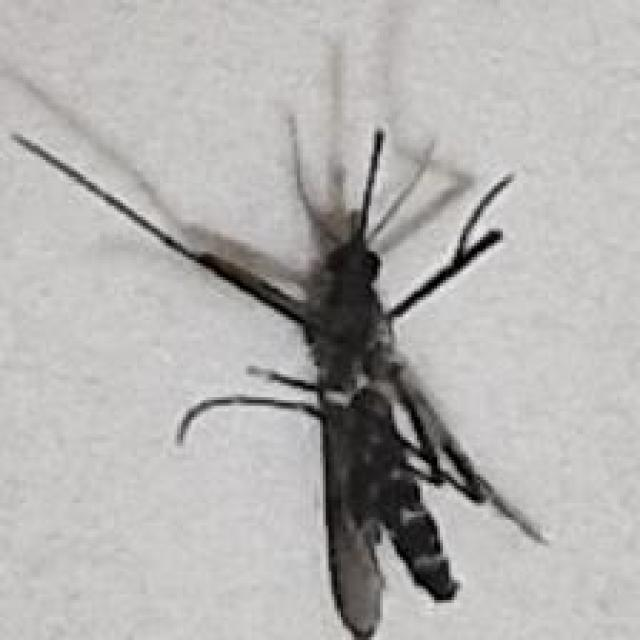Aedes albopictus: (10, 34, 550, 640)
